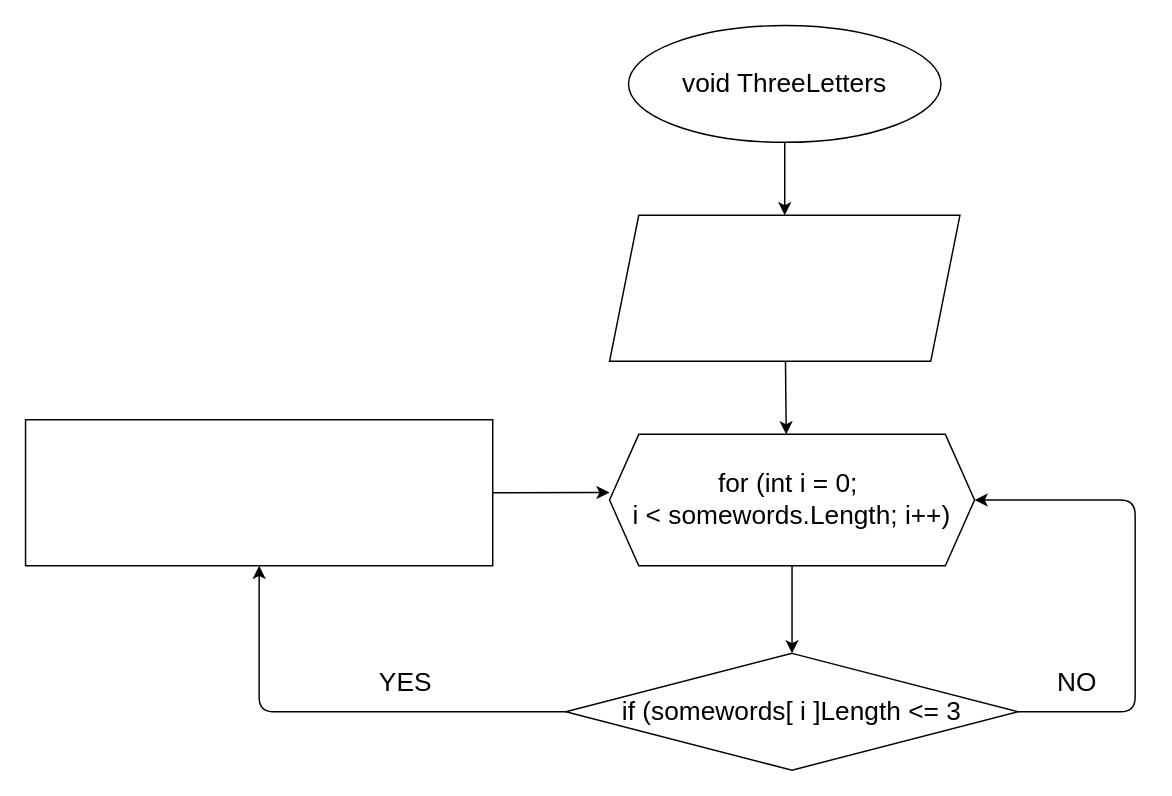
This 1172x796 diagram has some shape labels left out. Each missing label, with the centre of its shape:
shortwords [count] = somewords [ i ] count ++: point (258, 492)
string[ ] somewords string[ ] shortwords int count = 0: point (784, 287)
